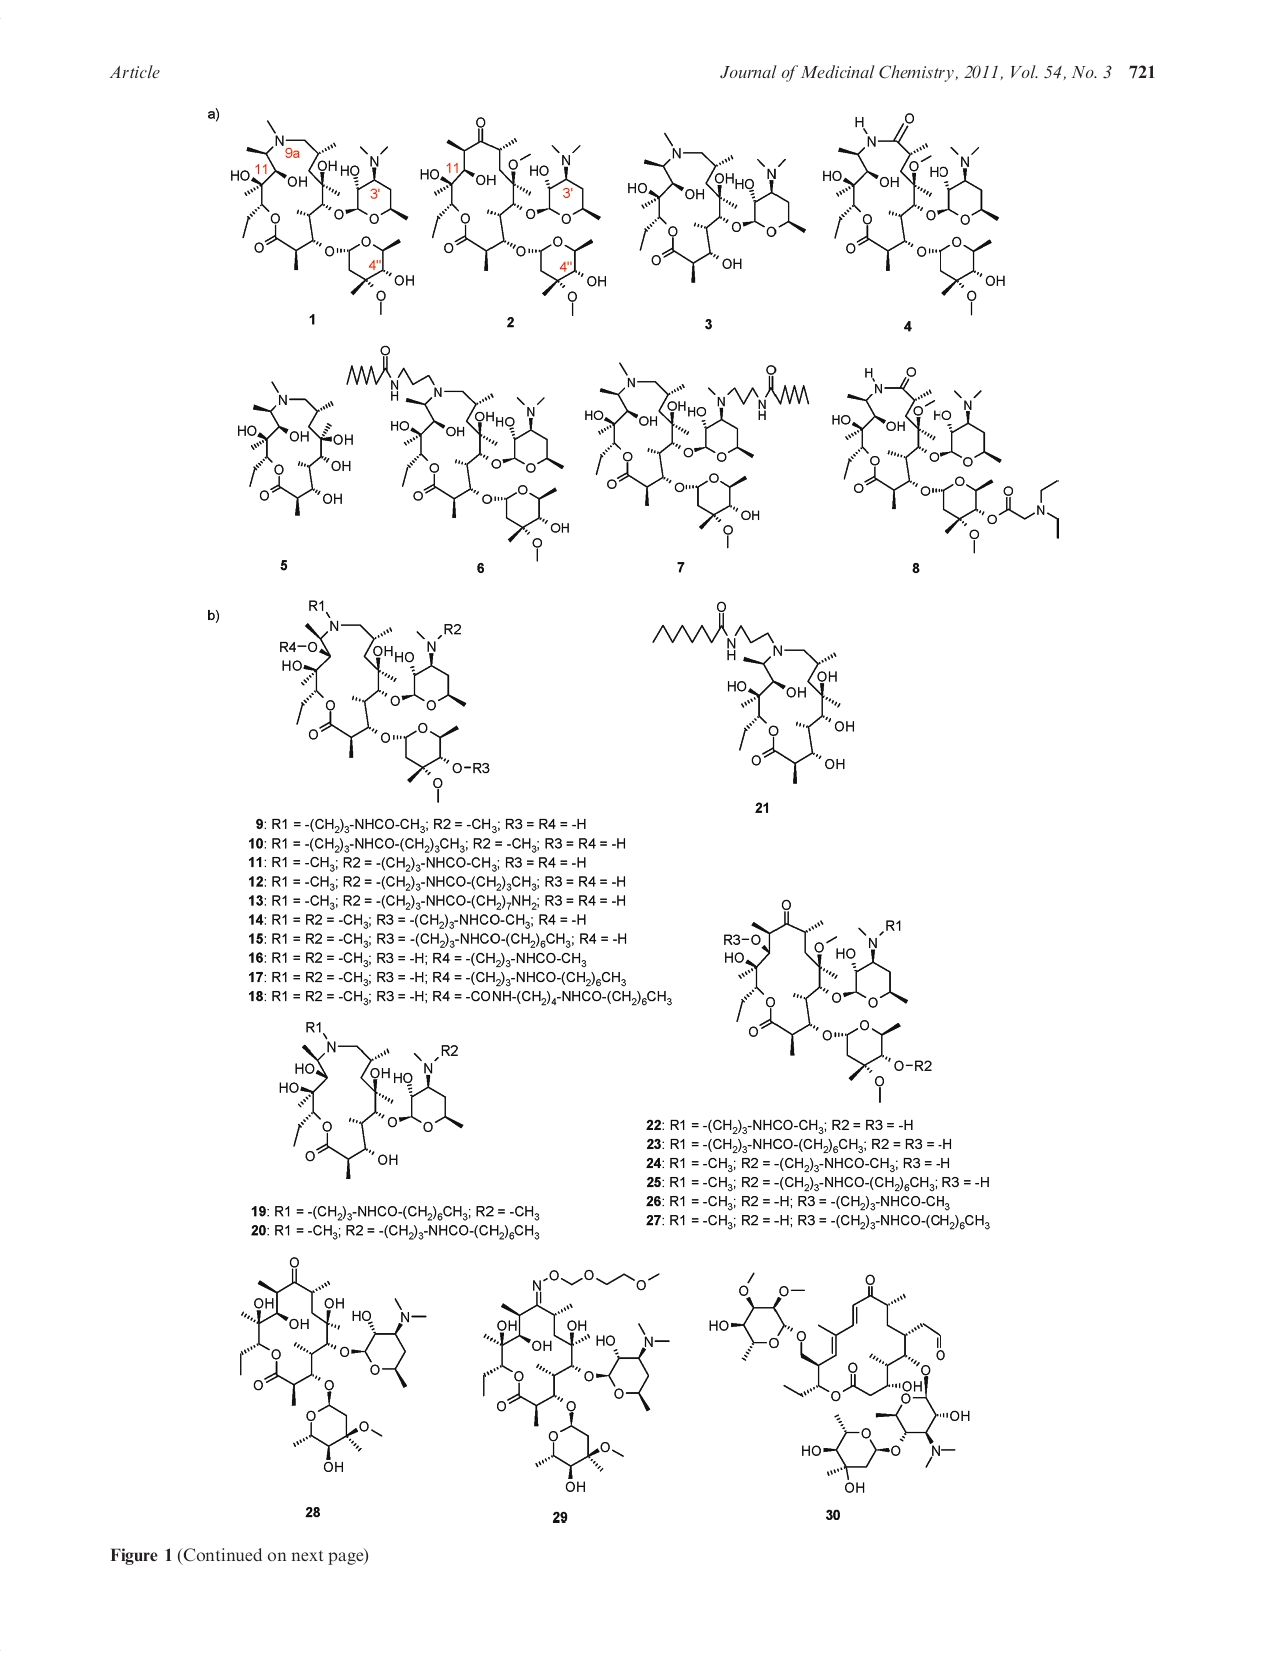exist_molecular: (703, 1262, 977, 1493), (343, 344, 574, 563), (824, 360, 1065, 555), (715, 896, 938, 1106), (277, 594, 493, 809), (473, 1262, 676, 1491), (578, 355, 813, 551), (235, 1255, 432, 1476), (418, 114, 610, 319), (819, 106, 1007, 315), (652, 597, 856, 787), (227, 117, 418, 317), (277, 1019, 467, 1180), (622, 126, 807, 289), (235, 372, 354, 523)
